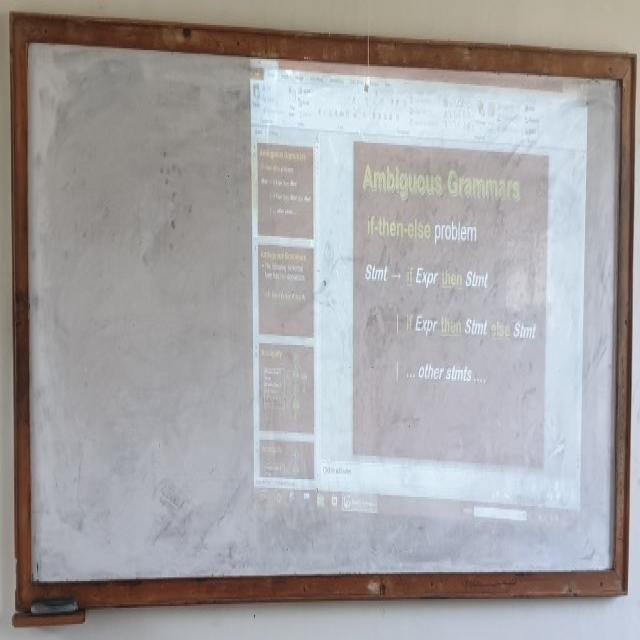Slide: (251, 37, 587, 530)
White-board: (20, 31, 629, 598)
